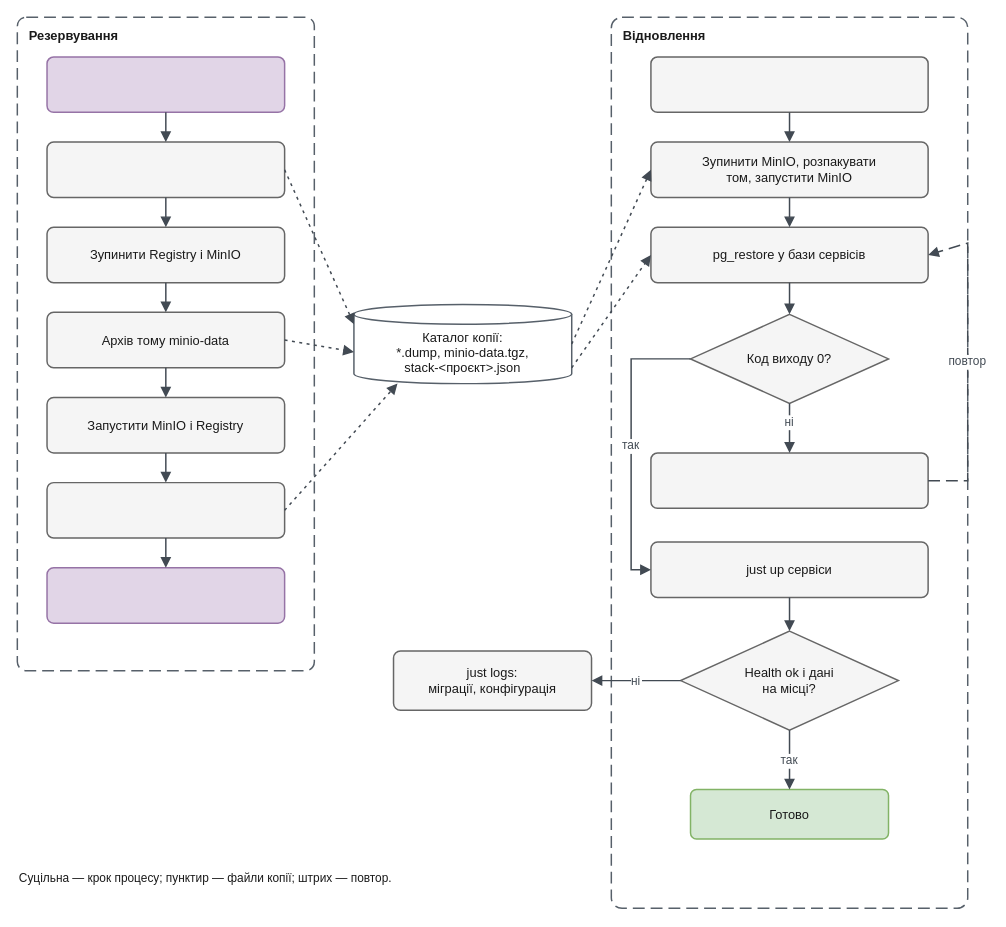
Some shapes in this 1006 by 927 pixel diagram are drawn without their labels. Here are the shapes that lost their labels. From the top down, the box of each, then its label:
(46, 56, 285, 113): Orchestrator без планувальника й воркерів
(650, 56, 928, 113): just up postgres minio: провізіонер створює бази й ролі
(46, 141, 285, 198): pg_dump кожної бази сервісу
(650, 452, 928, 509): Перевірити ролі, файл стеку, журнал
(46, 481, 285, 538): Копія файлу стеку з обліковими даними
(46, 567, 285, 624): Звичайний режим Orchestrator
